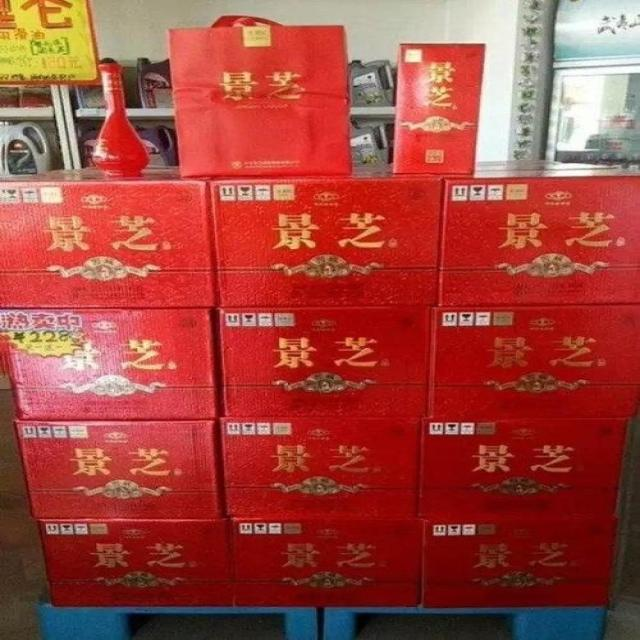box: (209, 166, 442, 309), (0, 166, 220, 310), (439, 158, 639, 305), (171, 26, 354, 179), (0, 309, 218, 420), (427, 305, 639, 418), (219, 305, 430, 417), (417, 417, 630, 523), (216, 418, 421, 519), (15, 421, 222, 520), (418, 519, 619, 608), (226, 517, 422, 607), (36, 520, 231, 607), (392, 46, 485, 175)
